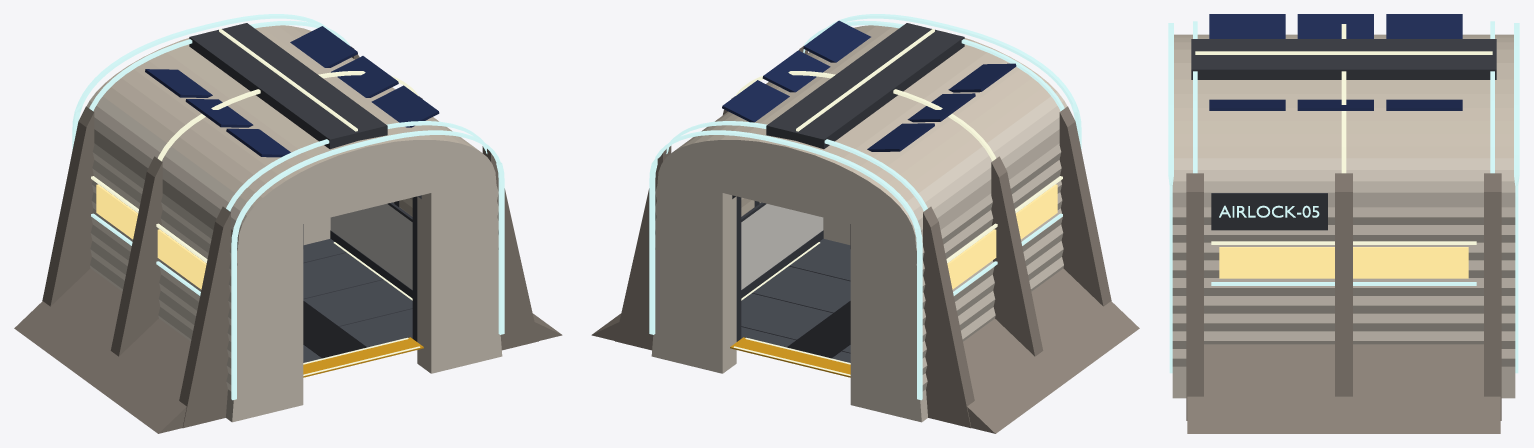
The model's file is Airlock.fbx.
3 renders of one model, left to right at view 1: azimuth 30°, elevation 25°; view 2: azimuth 150°, elevation 25°; view 3: azimuth 270°, elevation 25°, orthographic. The views are drawn at different scales.
Visible parts, largest first — view 1: Airlock solid, Airlock trim; view 2: Airlock solid, Airlock trim; view 3: Airlock solid, Airlock trim.
Part boxes in pixels (x1=…): Airlock solid: x1=14, y1=25, x2=562, y2=433; Airlock trim: x1=72, y1=14, x2=504, y2=400; Airlock solid: x1=591, y1=25, x2=1139, y2=433; Airlock trim: x1=649, y1=14, x2=1081, y2=400; Airlock solid: x1=1172, y1=34, x2=1515, y2=433; Airlock trim: x1=1168, y1=14, x2=1519, y2=373.
Bounding box in the file's own units: 6.32 × 3.77 × 4.37.
